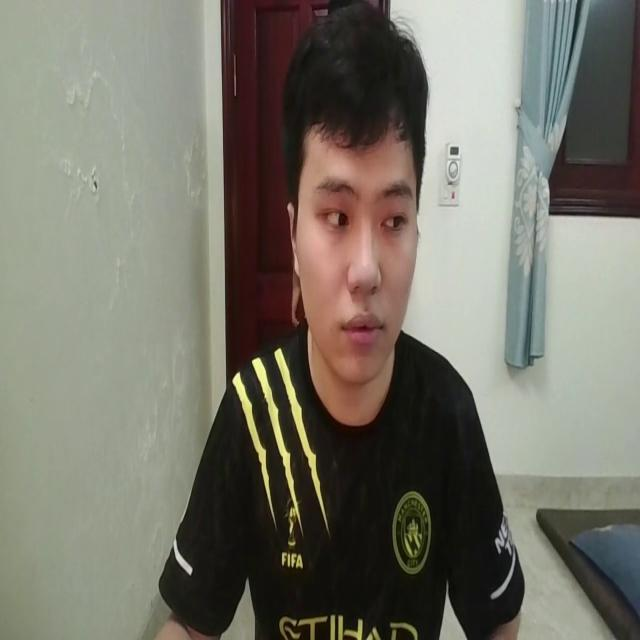student: (146, 0, 524, 640)
